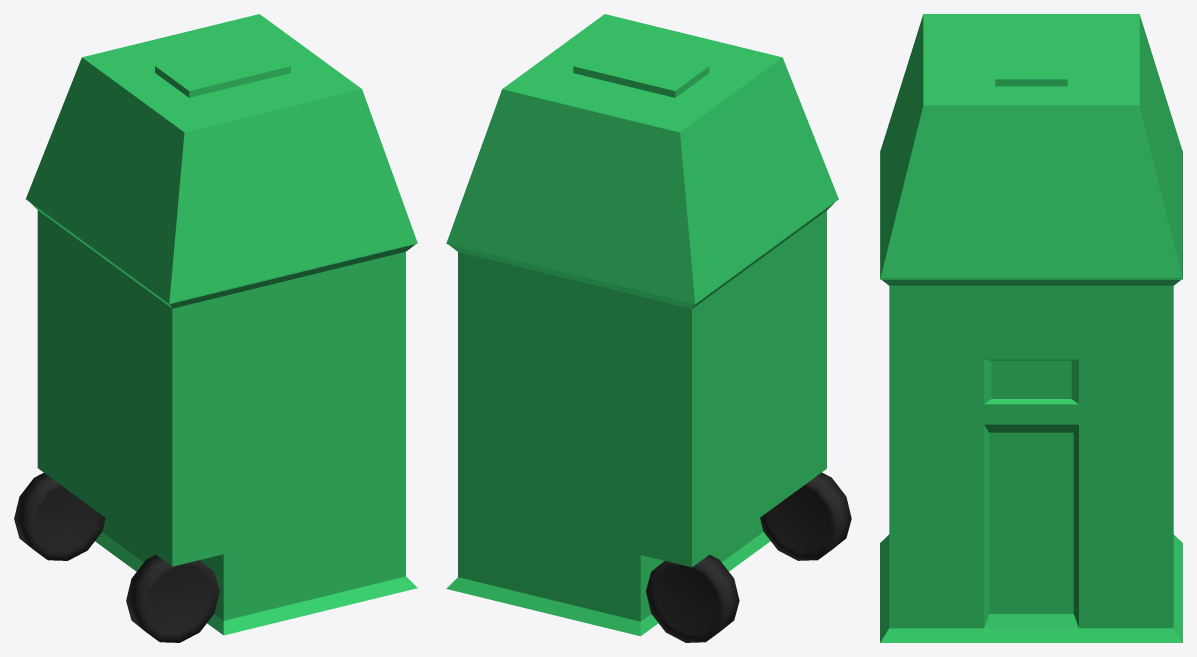
Rendered from Bin.fbx.
3 renders of one model, left to right at view 1: azimuth 30°, elevation 25°; view 2: azimuth 150°, elevation 25°; view 3: azimuth 270°, elevation 25°, orthographic. The views are drawn at different scales.
Visible parts, largest first — view 1: Bin, BinCover, Wheel, Wheel.001; view 2: Bin, BinCover, Wheel.001, Wheel; view 3: Bin, BinCover.
Part boxes in pixels (<box>): Bin: <box>30,202,417,635</box>; BinCover: <box>26,14,417,303</box>; Wheel: <box>126,555,219,642</box>; Wheel.001: <box>14,473,105,560</box>; Bin: <box>446,198,838,636</box>; BinCover: <box>446,14,838,304</box>; Wheel.001: <box>646,554,739,642</box>; Wheel: <box>760,472,851,560</box>; Bin: <box>880,151,1182,642</box>; BinCover: <box>880,14,1182,279</box>.
Bounding box in the file's own units: 2.7 × 4.82 × 2.48.
